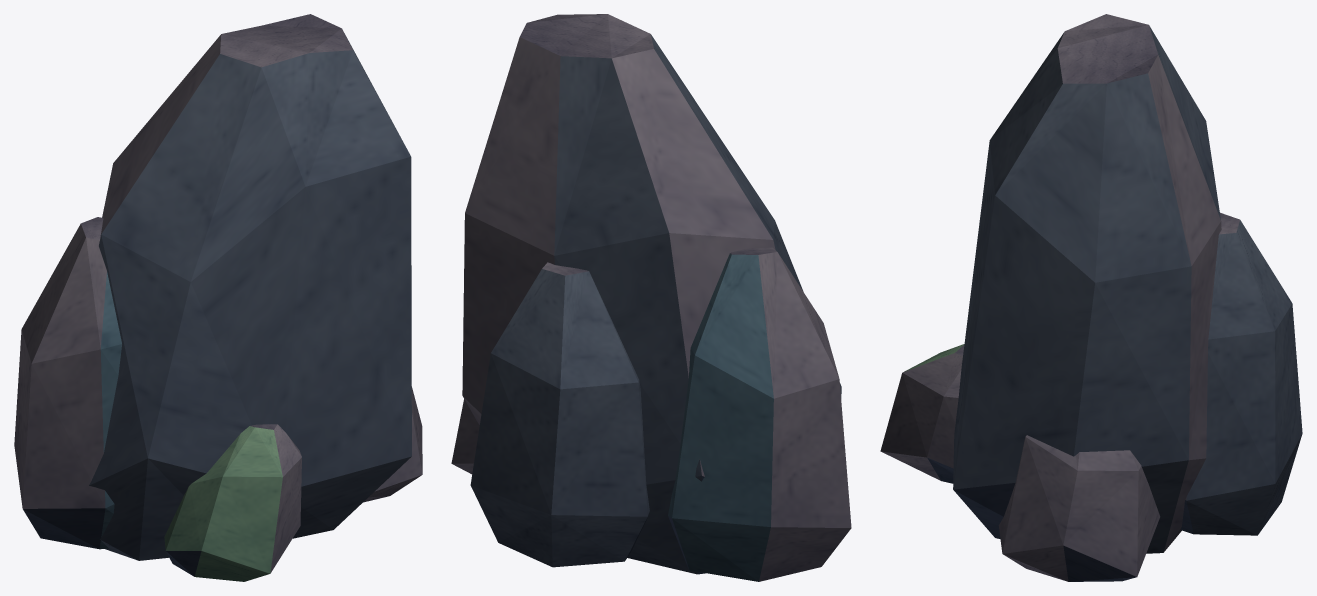
File: Roca_Columna_Basalto.fbx
The picture shows the model from 3 angles, left to right: view 1: azimuth 30°, elevation 25°; view 2: azimuth 150°, elevation 25°; view 3: azimuth 270°, elevation 25°; orthographic projection. The views are drawn at different scales.
Parts seen in each view (by area): view 1: Roca_Columna_Basalto; view 2: Roca_Columna_Basalto; view 3: Roca_Columna_Basalto.
Boxes of the visible parts, x1,y1,x2,y2 form: Roca_Columna_Basalto: (14,14,422,581); Roca_Columna_Basalto: (451,14,851,581); Roca_Columna_Basalto: (880,14,1302,581).
Bounding box in the file's own units: 7.65 × 6.88 × 8.84.
Materials: 1 (1 with a texture image).
